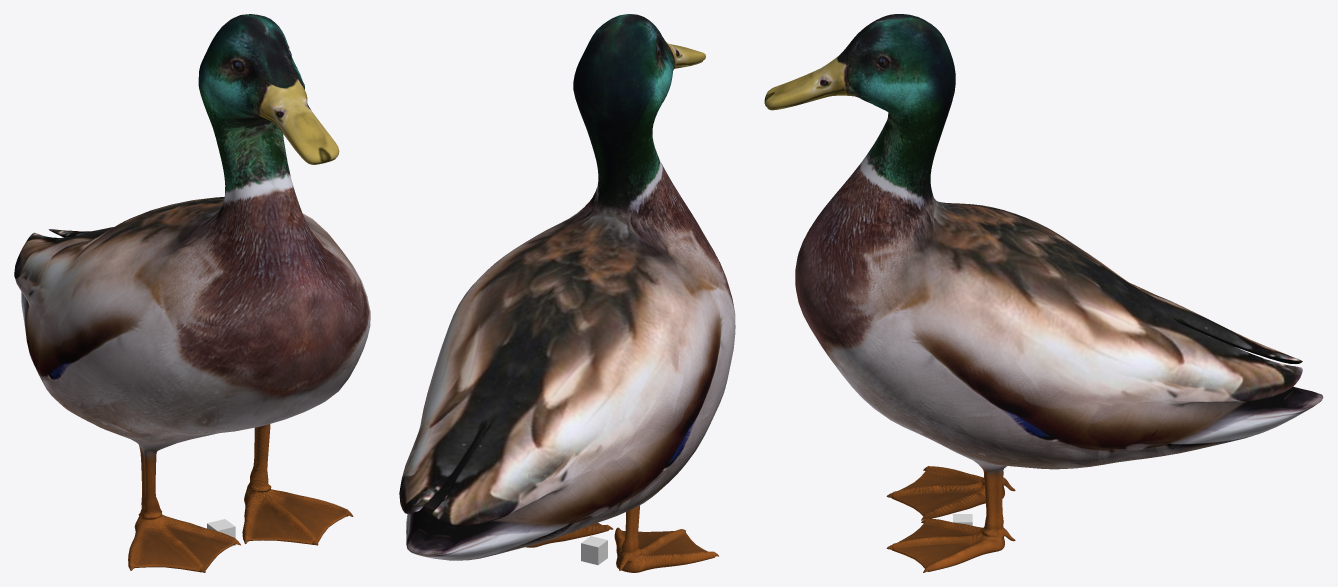
Rendered from goose.gltf.
The picture shows the model from 3 angles, left to right: view 1: azimuth 30°, elevation 25°; view 2: azimuth 150°, elevation 25°; view 3: azimuth 270°, elevation 25°; orthographic projection. The views are drawn at different scales.
Parts seen in each view (by area): view 1: 12248_Bird_v1_L2; view 2: 12248_Bird_v1_L2, Cube; view 3: 12248_Bird_v1_L2.
Part boxes in pixels (x1,y1,x2,y2): 12248_Bird_v1_L2: [14, 14, 370, 572]; 12248_Bird_v1_L2: [399, 14, 735, 572]; Cube: [581, 536, 607, 564]; 12248_Bird_v1_L2: [764, 14, 1323, 572].
Bounding box in the file's own units: 28.45 × 57.82 × 56.44.
2 materials, 1 textured.
